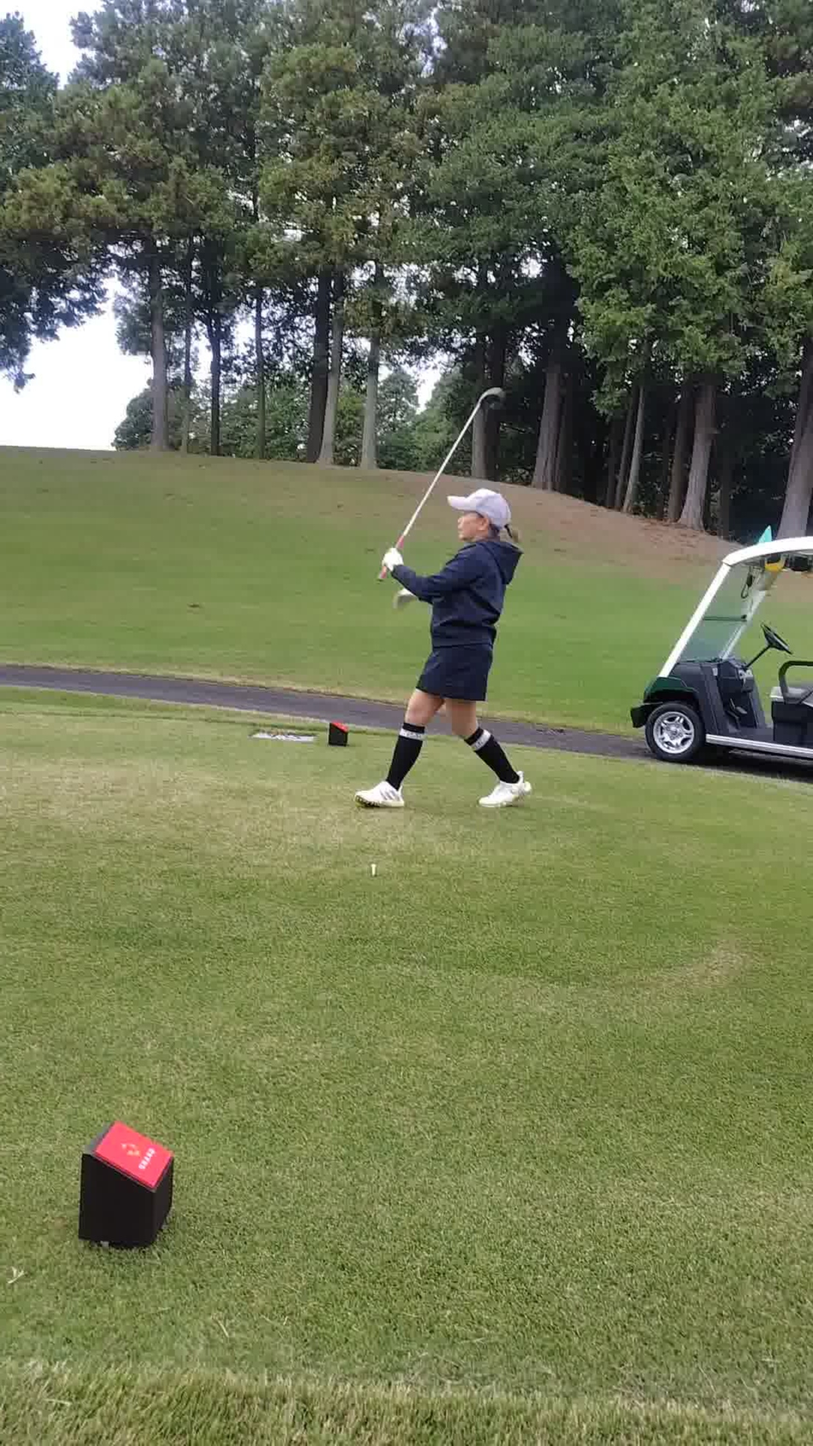clubhead: (416, 358, 554, 469)
